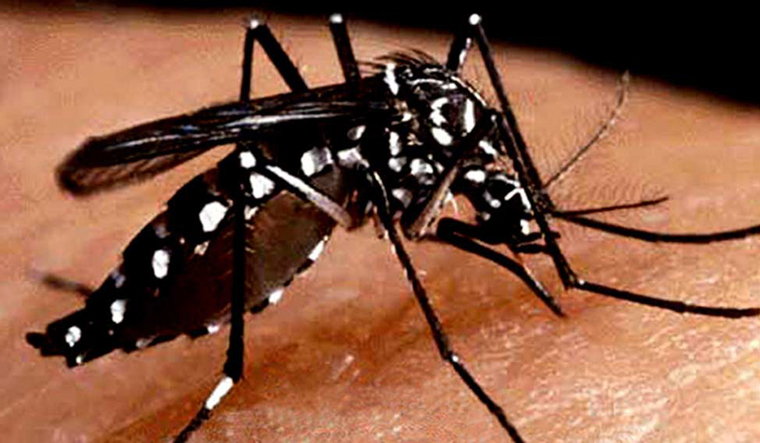dengue_mosquito: (24, 14, 671, 386)
